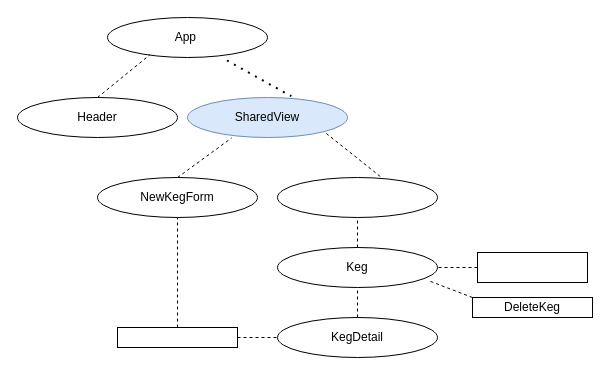
Image size: 610x375. Some labels were removed from this diagram. Here are the shapes that lost their labels. From the top down, the centre of each, then its label:
At pixel 357 197: "KegList".
At pixel 532 267: "Buy/stock".
At pixel 177 337: "EditKeg".
